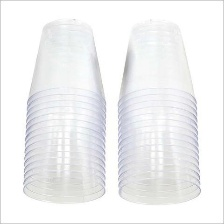glass: (21, 15, 112, 210), (114, 17, 204, 210)
